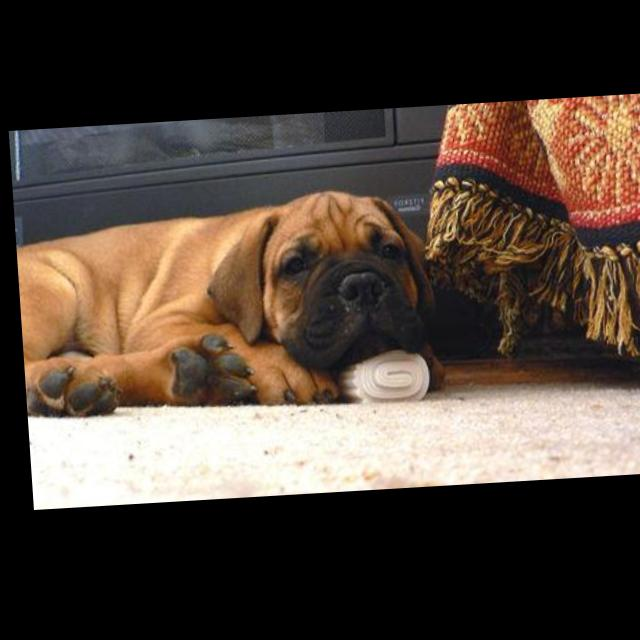bullmastiff: (12, 188, 443, 422)
